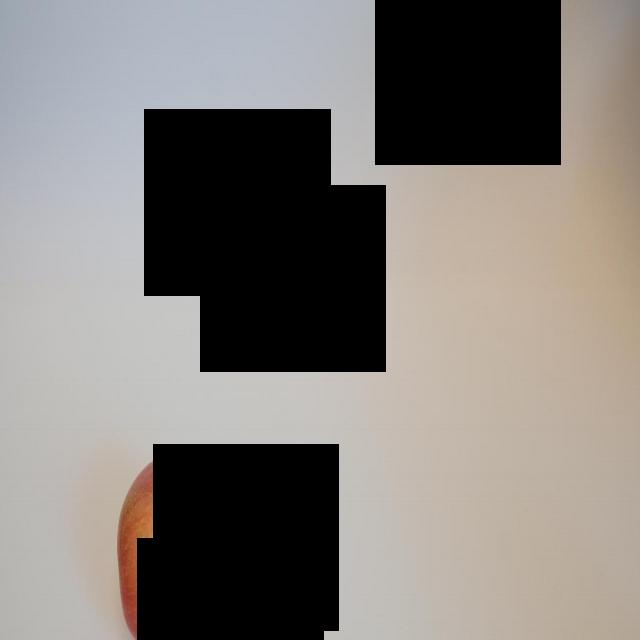apple: (117, 452, 211, 638)
